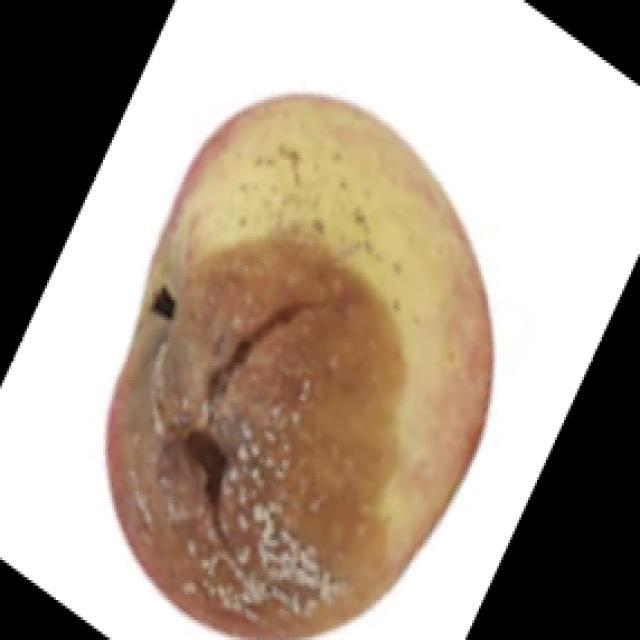Rotten: (86, 107, 506, 638)
